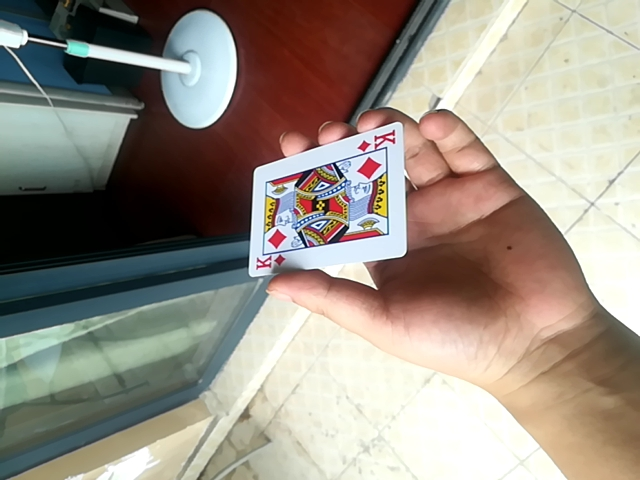fk k: (249, 120, 399, 286)
